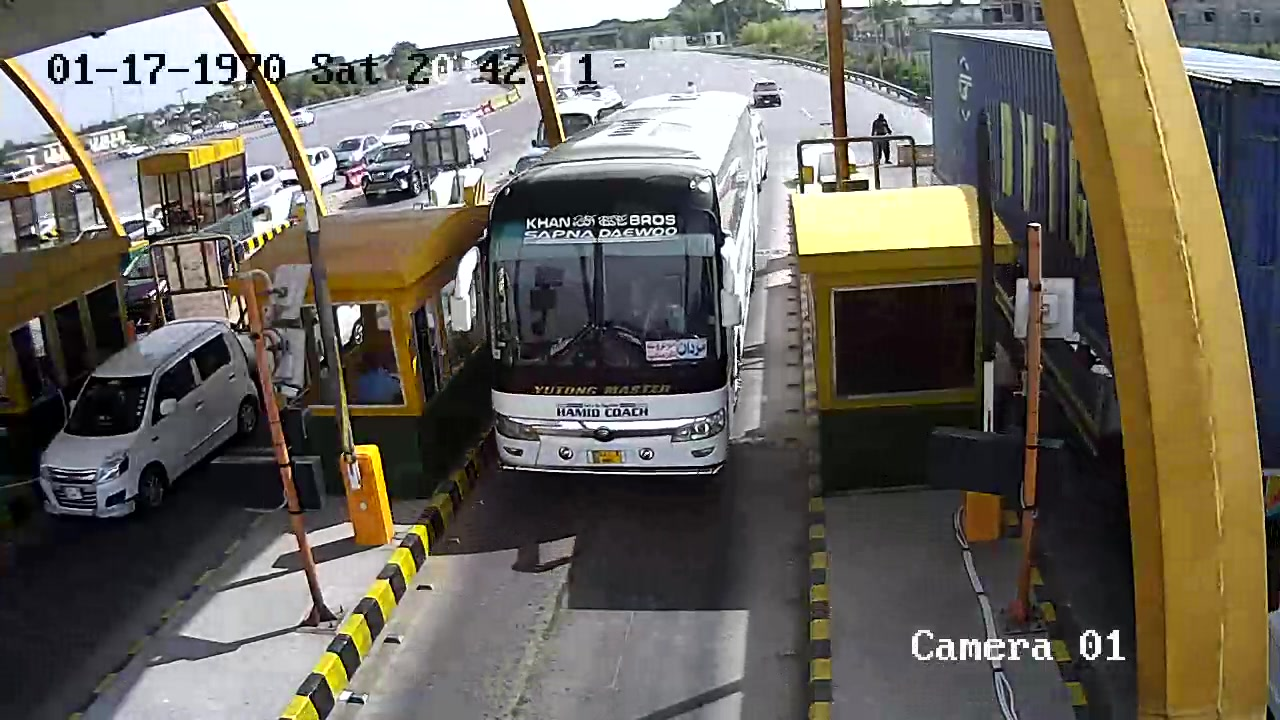F4: (479, 85, 768, 486)
